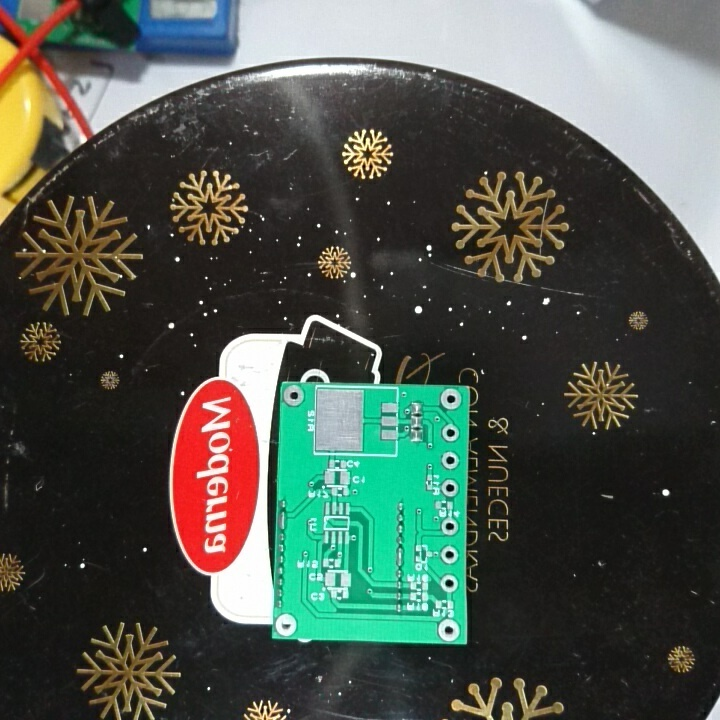F: (281, 383, 306, 409), (438, 389, 464, 414), (275, 610, 299, 636), (436, 616, 459, 641), (438, 478, 462, 501), (440, 517, 461, 539), (439, 450, 460, 471), (439, 544, 459, 566), (441, 423, 461, 444), (439, 572, 460, 592)
P: (394, 544, 406, 569), (277, 510, 289, 532)
